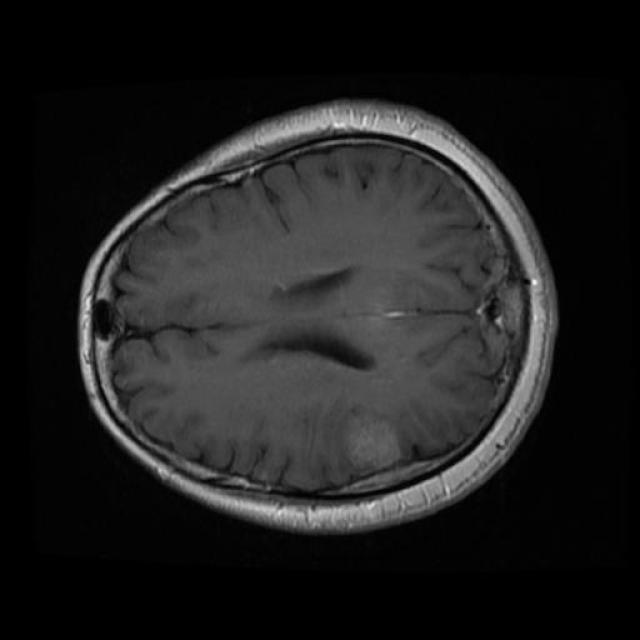Meningioma: (345, 416, 401, 473)
